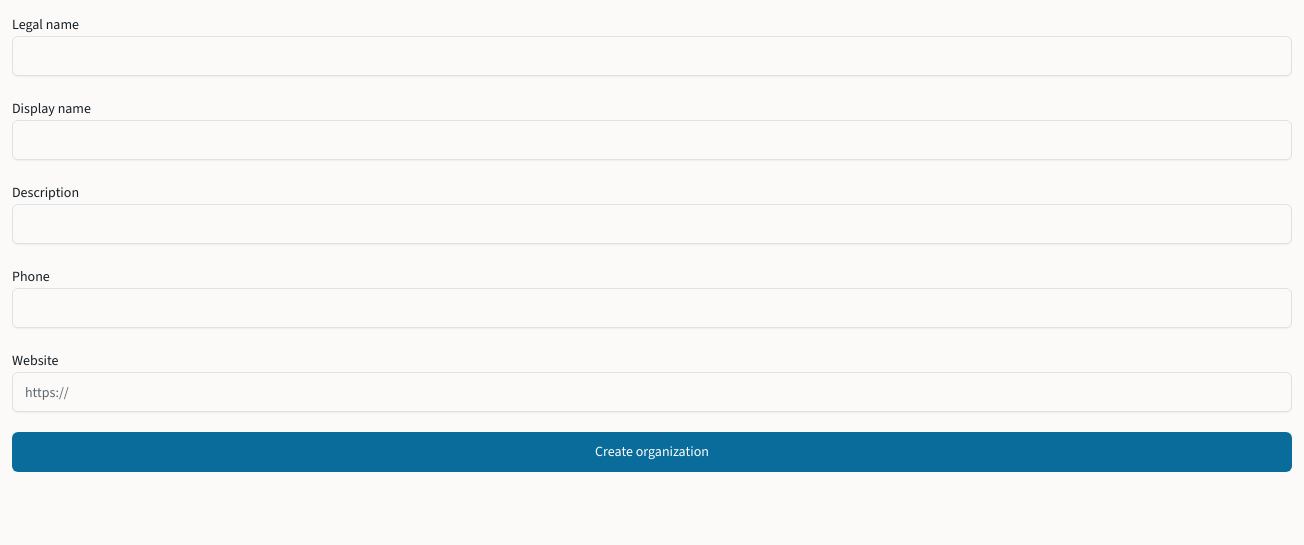
it: OrganizationForm › validates required names
The image size is (1304, 545).
Step 1. Click the button "Create organization" → click(652, 452), box [12,432,1292,472]
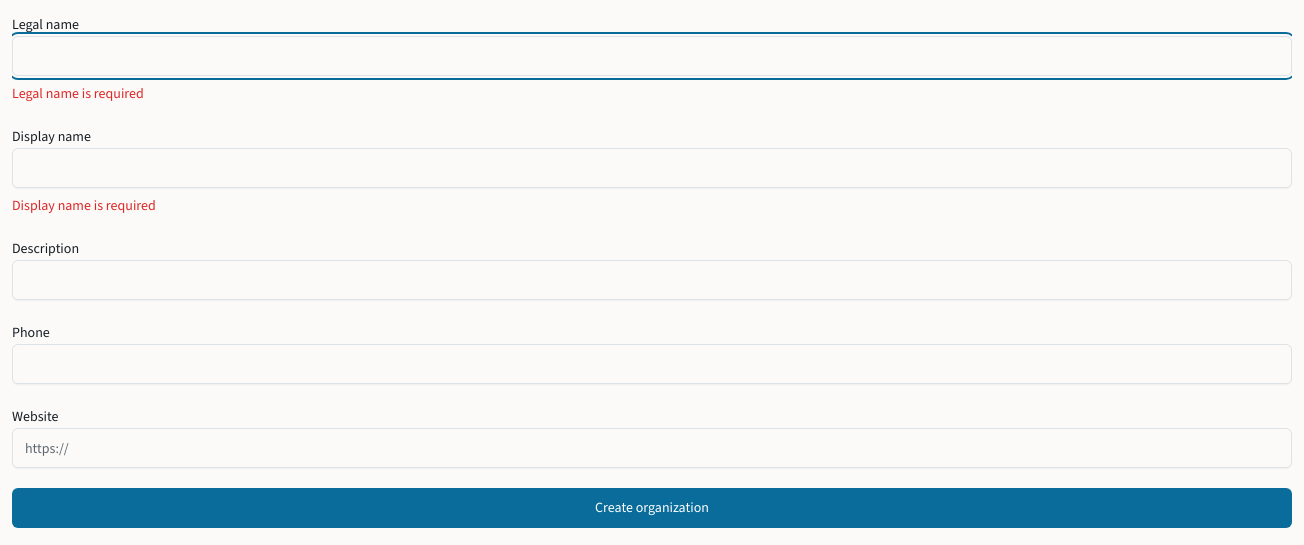
Check: the text "Legal name is required" is shown, box [12,84,144,103]
